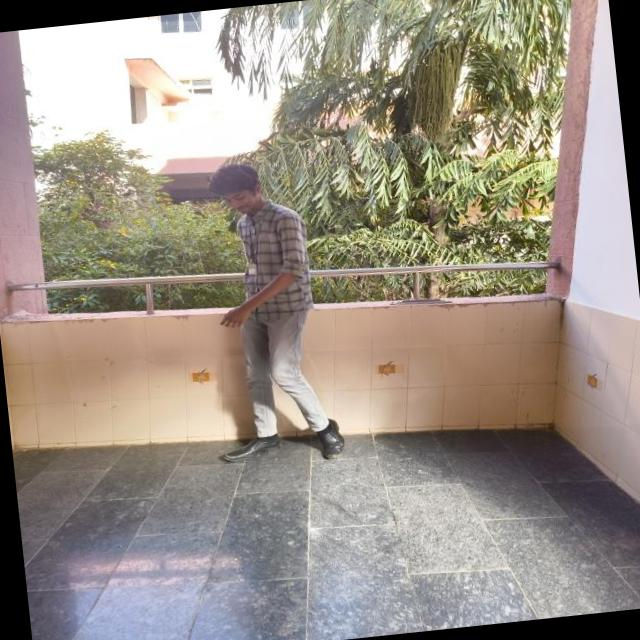id_card: (238, 212, 268, 283)
